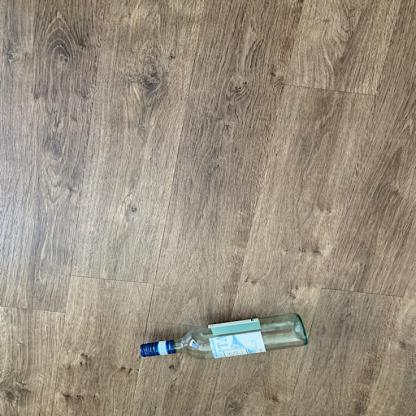trash: (138, 312, 310, 360)
